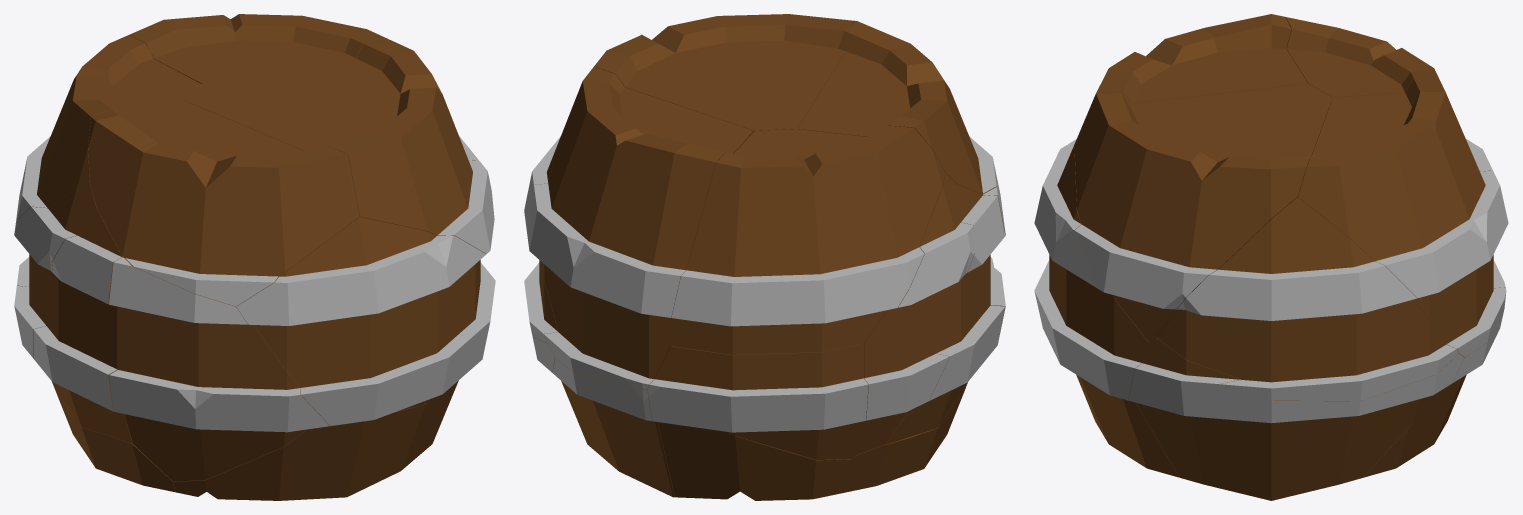
The model's file is LowPolyKegShattered1.fbx.
3 views of the same model, side by side, from view 1: azimuth 30°, elevation 25°; view 2: azimuth 150°, elevation 25°; view 3: azimuth 270°, elevation 25° (orthographic). The views are drawn at different scales.
Visible parts, largest first — view 1: Cylinder_cell.012, Cylinder_cell.001, Cylinder_cell.008, Cylinder_cell.014, Cylinder_cell.005, Cylinder_cell.002, Cylinder_cell.011, Cylinder_cell, Cylinder_cell.006, Cylinder_cell.009, Cylinder_cell.010; view 2: Cylinder_cell.011, Cylinder_cell, Cylinder_cell.008, Cylinder_cell.003, Cylinder_cell.012, Cylinder_cell.006, Cylinder_cell.013, Cylinder_cell.002, Cylinder_cell.007, Cylinder_cell.009, Cylinder_cell.004, Cylinder_cell.014; view 3: Cylinder_cell.008, Cylinder_cell.004, Cylinder_cell, Cylinder_cell.010, Cylinder_cell.001, Cylinder_cell.012, Cylinder_cell.011, Cylinder_cell.005, Cylinder_cell.007.
Boxes of the visible parts, box(x1,y1,x2,y2) form: Cylinder_cell.012: box(88, 100, 359, 306); Cylinder_cell.001: box(236, 217, 492, 425); Cylinder_cell.008: box(185, 39, 494, 276); Cylinder_cell.014: box(109, 257, 329, 481); Cylinder_cell.005: box(173, 380, 458, 500); Cylinder_cell.002: box(33, 208, 132, 443); Cylinder_cell.011: box(15, 34, 201, 226); Cylinder_cell: box(130, 14, 388, 83); Cylinder_cell.006: box(14, 183, 96, 358); Cylinder_cell.009: box(54, 387, 175, 491); Cylinder_cell.010: box(477, 264, 495, 304); Cylinder_cell.011: box(671, 125, 945, 354); Cylinder_cell: box(528, 66, 753, 388); Cylinder_cell.008: box(594, 14, 854, 131); Cylinder_cell.003: box(647, 343, 868, 459); Cylinder_cell.012: box(797, 21, 996, 194); Cylinder_cell.006: box(856, 172, 973, 455); Cylinder_cell.013: box(648, 390, 851, 500); Cylinder_cell.002: box(886, 184, 1005, 444); Cylinder_cell.007: box(552, 357, 674, 497); Cylinder_cell.009: box(845, 387, 965, 492); Cylinder_cell.004: box(524, 136, 560, 342); Cylinder_cell.014: box(982, 170, 1005, 333); Cylinder_cell.008: box(1074, 83, 1332, 342); Cylinder_cell.004: box(1156, 197, 1458, 401); Cylinder_cell: box(1298, 77, 1508, 357); Cylinder_cell.010: box(1128, 337, 1463, 500); Cylinder_cell.001: box(1034, 145, 1149, 400); Cylinder_cell.012: box(1068, 14, 1307, 146); Cylinder_cell.011: box(1285, 17, 1492, 171); Cylinder_cell.005: box(1076, 375, 1179, 477); Cylinder_cell.007: box(1362, 298, 1505, 477).
Size of the model in its own units: 263 by 212 by 269.
